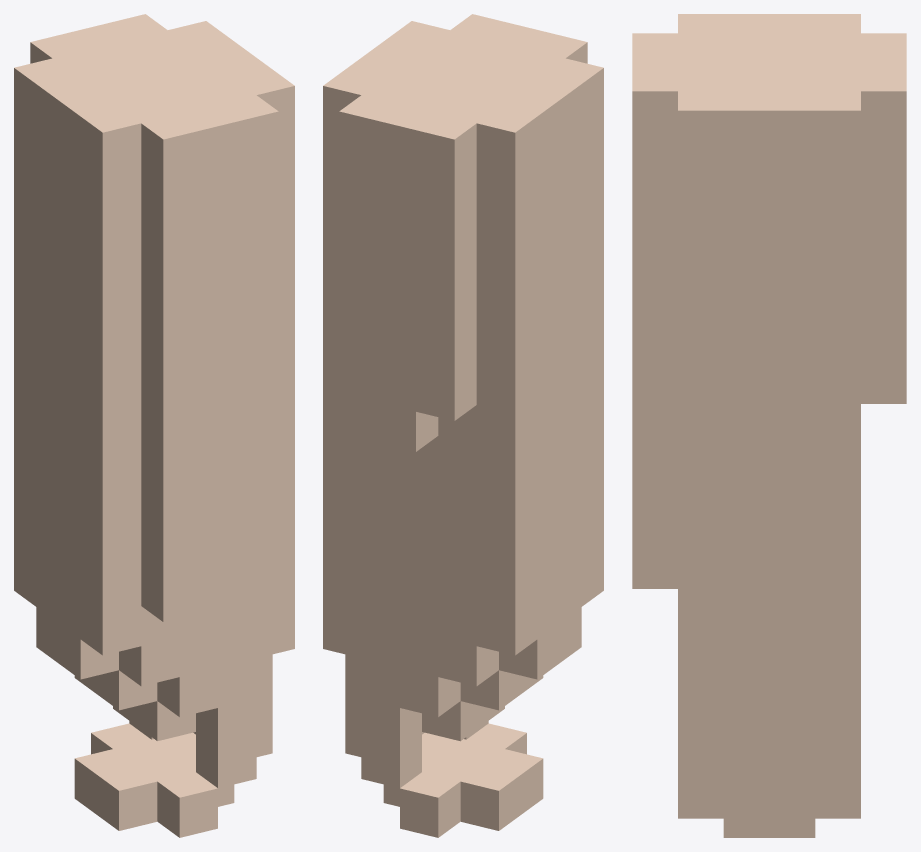
Rendered from r_gol_1.dae.
3 renders of one model, left to right at view 1: azimuth 30°, elevation 25°; view 2: azimuth 150°, elevation 25°; view 3: azimuth 270°, elevation 25°, orthographic. The views are drawn at different scales.
Visible parts, largest first — view 1: Content; view 2: Content; view 3: Content.
Part boxes in pixels (<box>): Content: <box>14,14,294,837</box>; Content: <box>323,14,603,837</box>; Content: <box>632,14,906,837</box>.
Bounding box in the file's own units: 5 × 18 × 6.
1 material, 1 textured.
